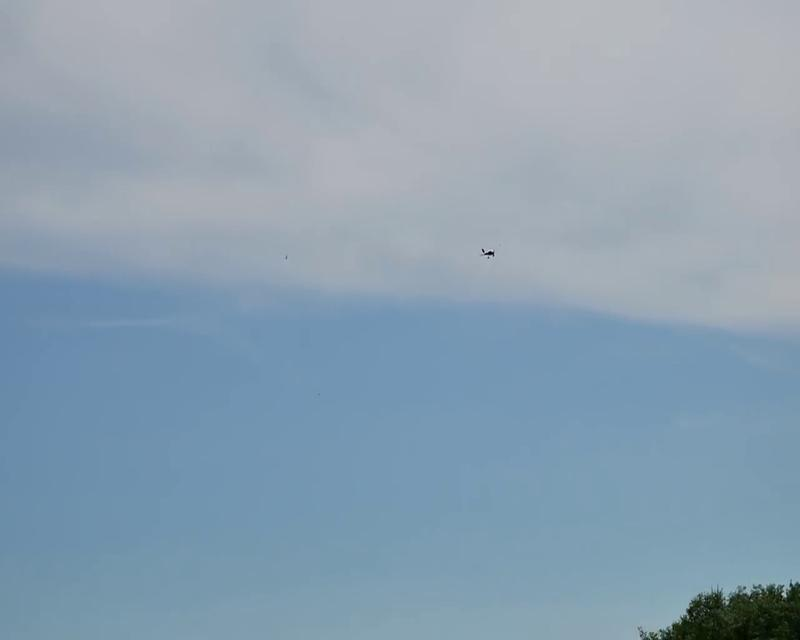UAV: (479, 243, 502, 260)
